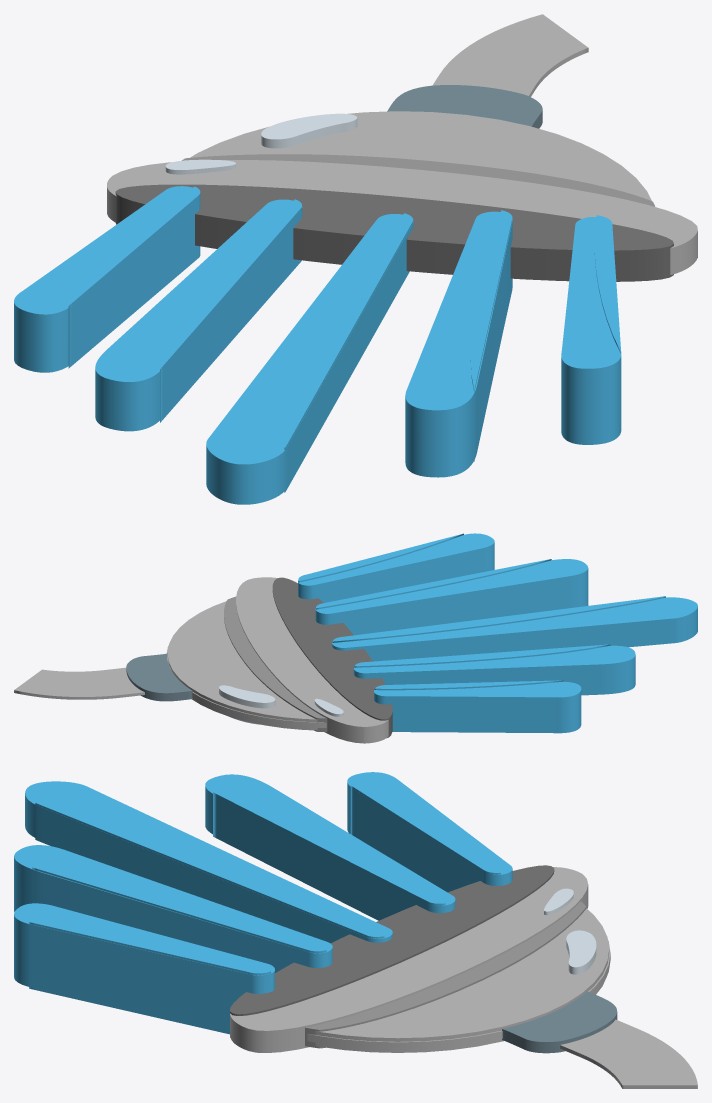
The model's file is emoji_u1f6bf.glb.
3 renders of one model, top to bottom at view 1: azimuth 30°, elevation 25°; view 2: azimuth 150°, elevation 25°; view 3: azimuth 270°, elevation 25°, orthographic. The views are drawn at different scales.
Parts seen in each view (by area): view 1: emoji_u1f6bf; view 2: emoji_u1f6bf; view 3: emoji_u1f6bf.
Boxes of the visible parts, x1,y1,x2,y2 form: emoji_u1f6bf: (14,14,697,504); emoji_u1f6bf: (14,533,697,743); emoji_u1f6bf: (14,772,697,1088).
Size of the model in its own units: 0.0339 by 0.0036 by 0.0335.
